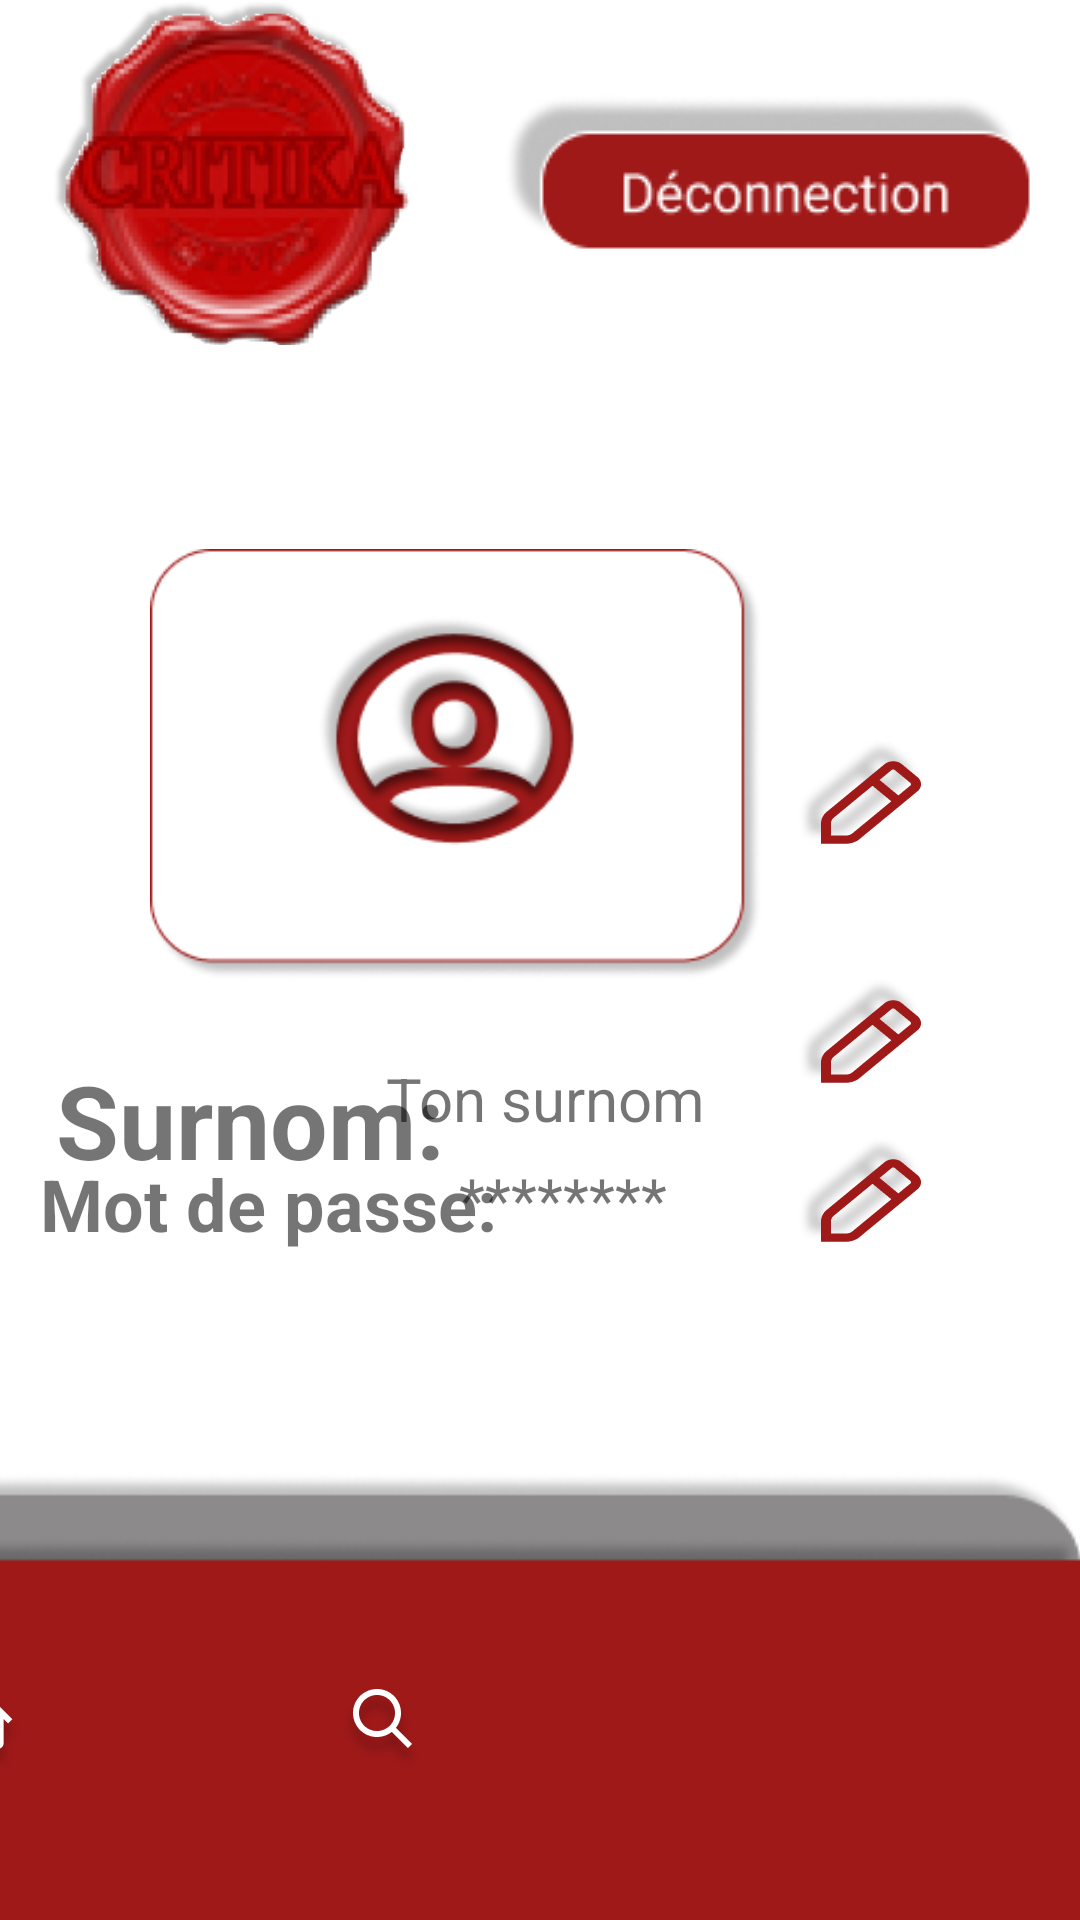

Icons on this 1080x1920 Android screen, each with its box as (x1, y1, x2, y2):
pencil create: (807, 749, 921, 844), (807, 988, 921, 1083), (807, 1147, 921, 1242)
search: (353, 1689, 412, 1748)
user rouge: (326, 624, 574, 844)
